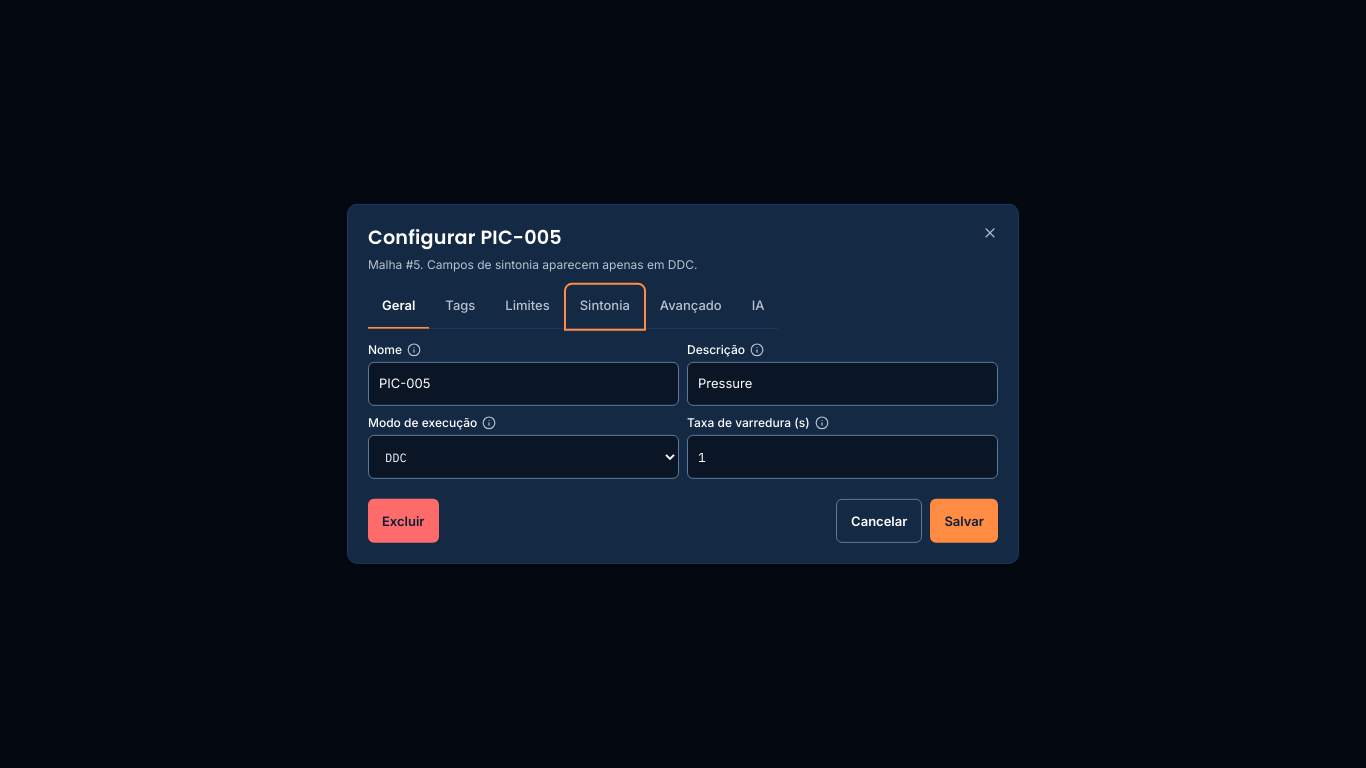
Test: LoopConfigDialog — writes › refuses to save an invalid gain band and says why
Step 1. Press Enter in the tab "Sintonia", box [566,285,644,329]
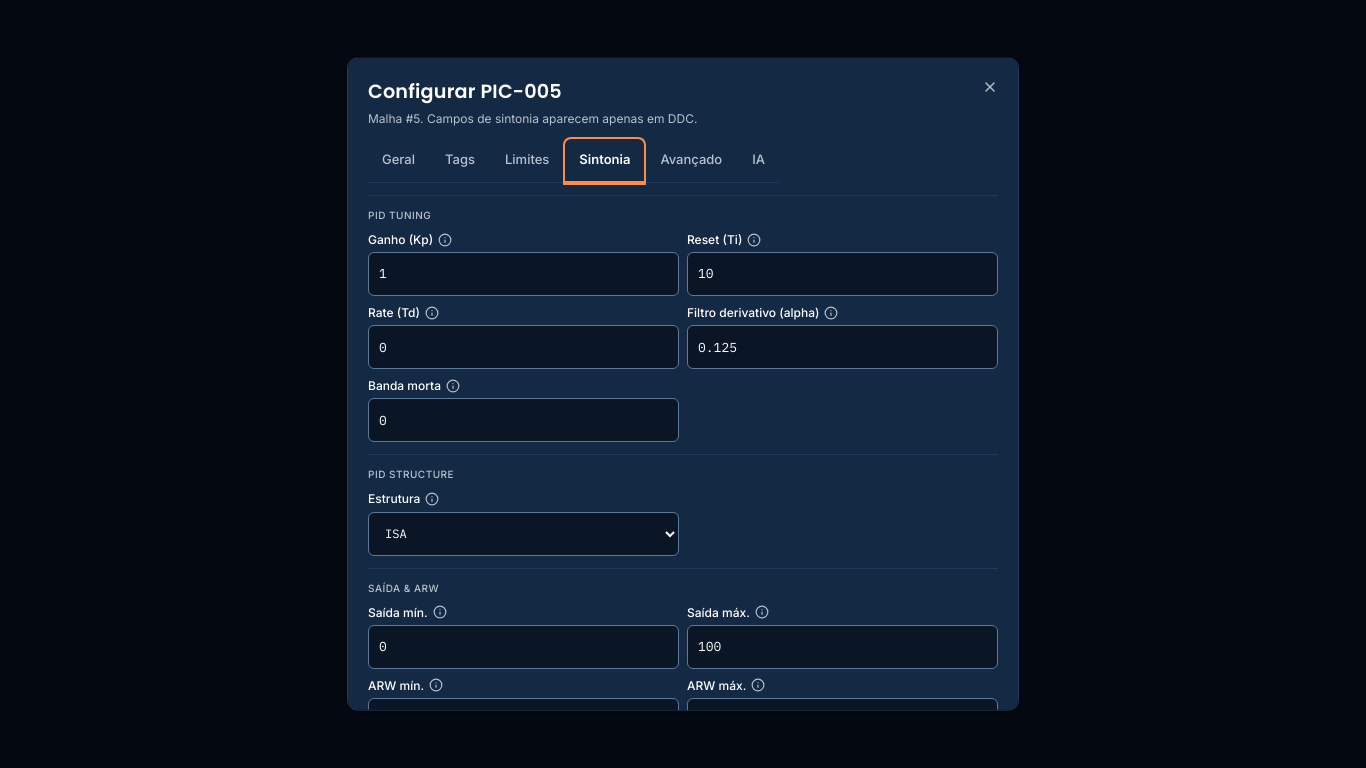
Step 2. Replace the text in the number field labelled "Reset (Ti)" with "0" → (842, 274), box [687,252,998,296]
(page scrolled)
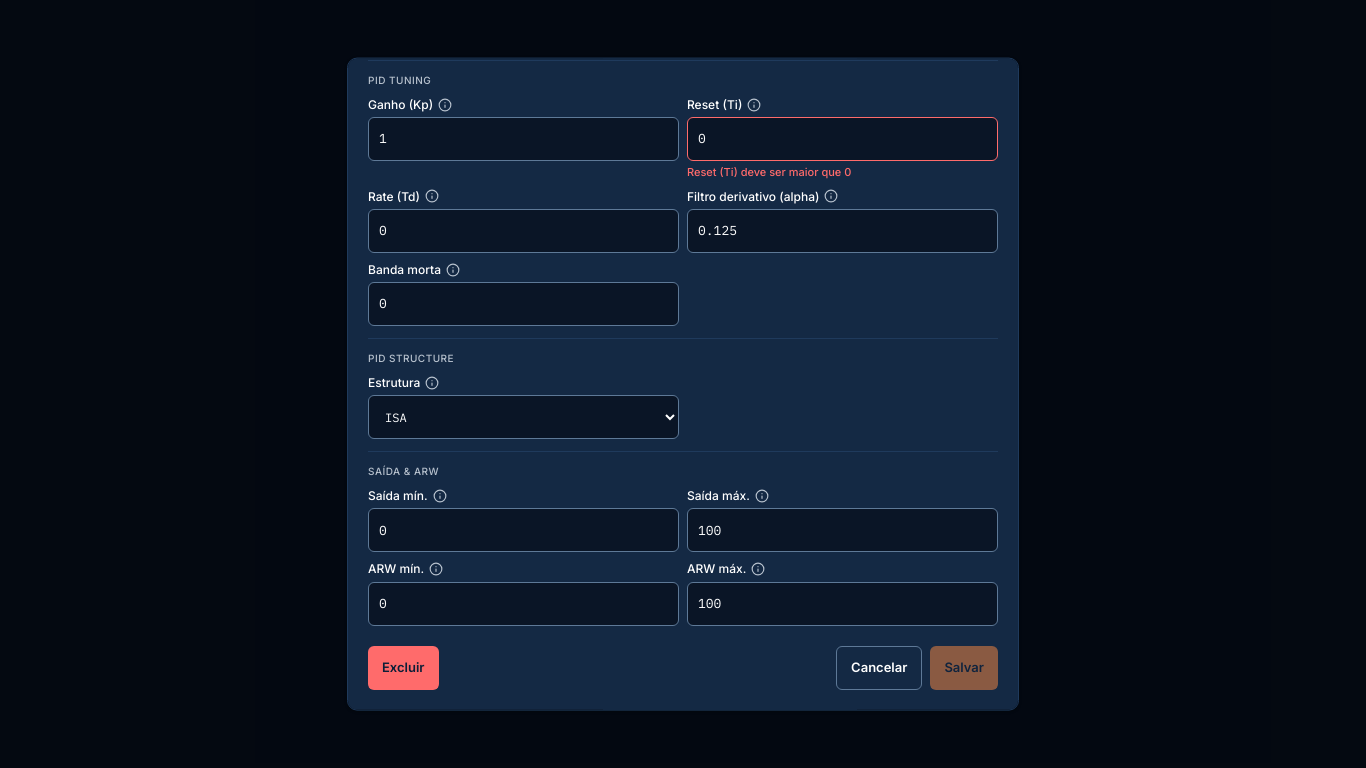
Now the text "Reset (Ti) deve ser maior que 0" is shown, box [687,165,851,179]
Now the button "Salvar" is disabled, box [930,645,998,689]
